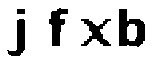b: (116, 3, 149, 51)
f: (44, 6, 70, 49)
j: (5, 6, 28, 57)
x: (78, 16, 112, 48)
